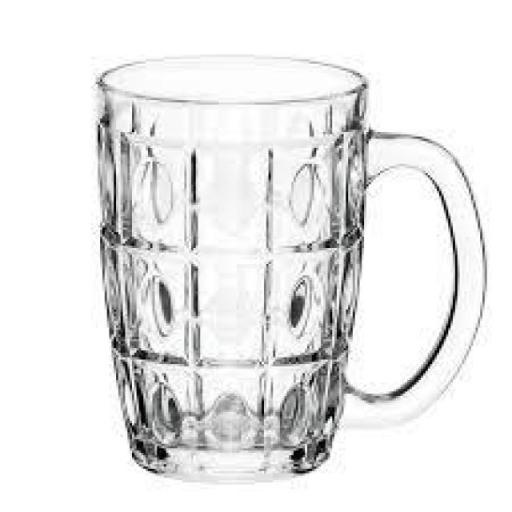glass: (68, 32, 493, 498)
